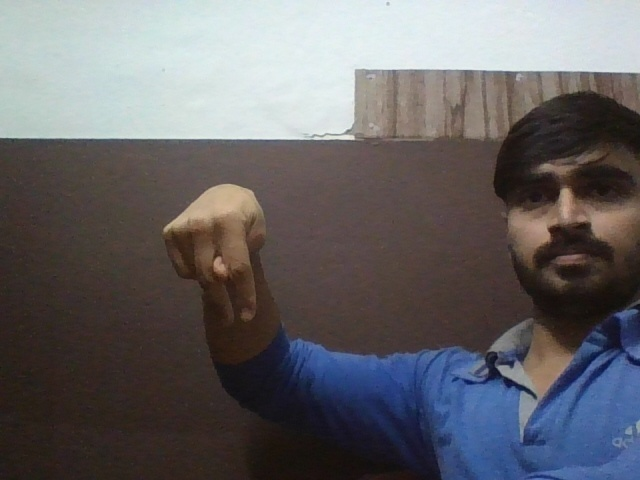P: (134, 182, 298, 334)
